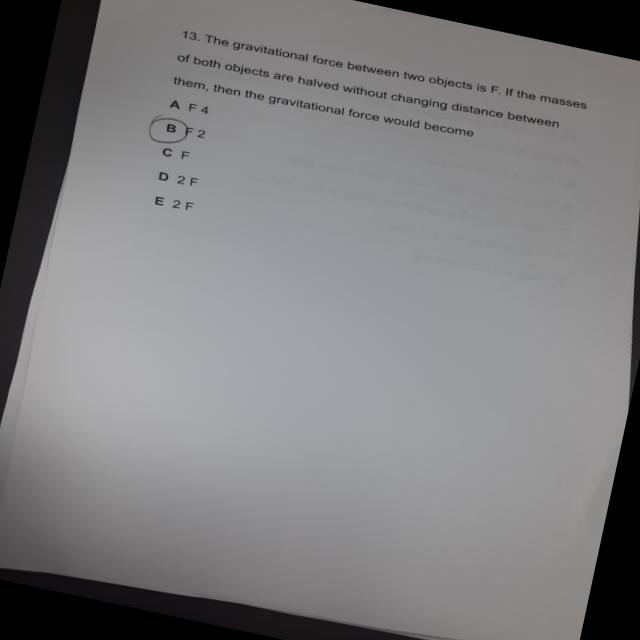B: (146, 114, 194, 151)
